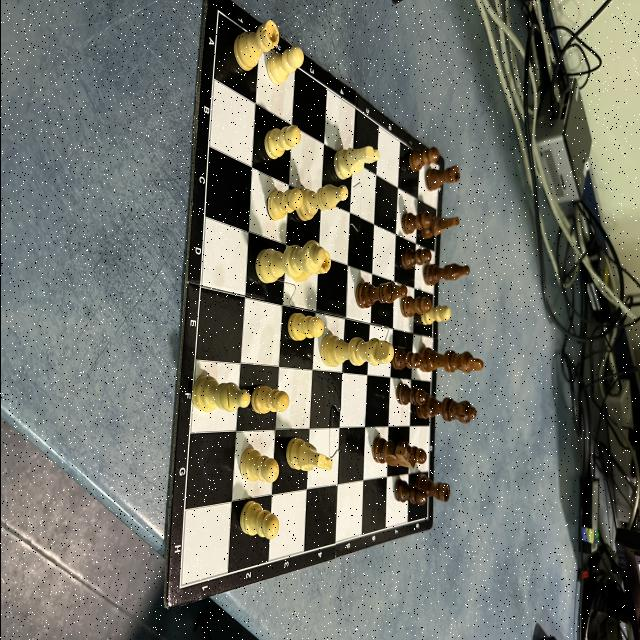Black-Bishop: (354, 281, 406, 308), (422, 262, 469, 286)
Black-King: (416, 344, 484, 374)
Black-Knight: (370, 437, 414, 469), (418, 214, 459, 240)
Black-Pawn: (392, 481, 427, 506), (408, 147, 438, 173), (399, 295, 431, 319), (390, 348, 421, 372), (395, 384, 427, 406), (400, 247, 430, 270), (398, 440, 426, 464), (400, 212, 430, 234)
Black-Queen: (414, 393, 476, 425)
Black-Rook: (412, 472, 450, 502), (424, 164, 460, 192)
White-Bishop: (192, 374, 250, 412), (294, 183, 348, 222)
White-King: (318, 335, 394, 367)
White-Knight: (284, 436, 332, 471), (332, 145, 378, 181)
White-Pawn: (238, 500, 278, 540), (266, 45, 304, 85), (263, 124, 301, 160), (238, 448, 278, 482), (266, 188, 302, 220), (286, 312, 324, 342), (250, 384, 288, 414), (418, 304, 451, 326)
White-Queen: (254, 238, 324, 284)
White-Rook: (232, 19, 278, 72), (292, 254, 330, 282)
